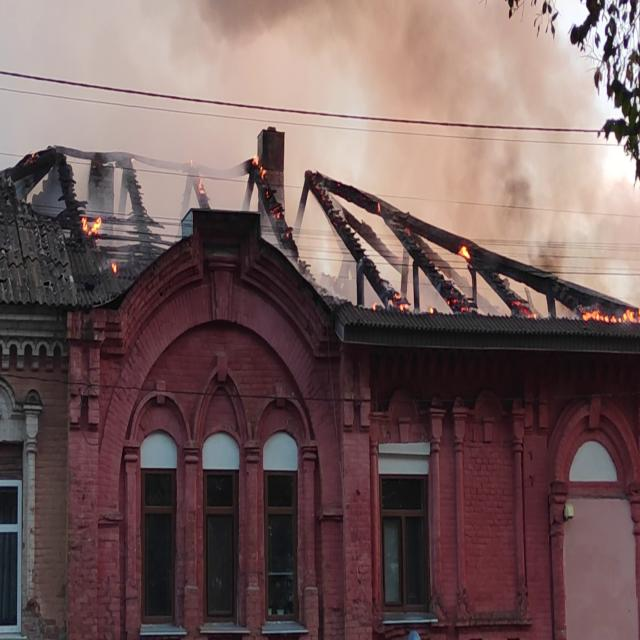fire: (246, 152, 284, 229), (79, 212, 121, 280), (458, 239, 485, 286)
smoke: (358, 0, 542, 230)
